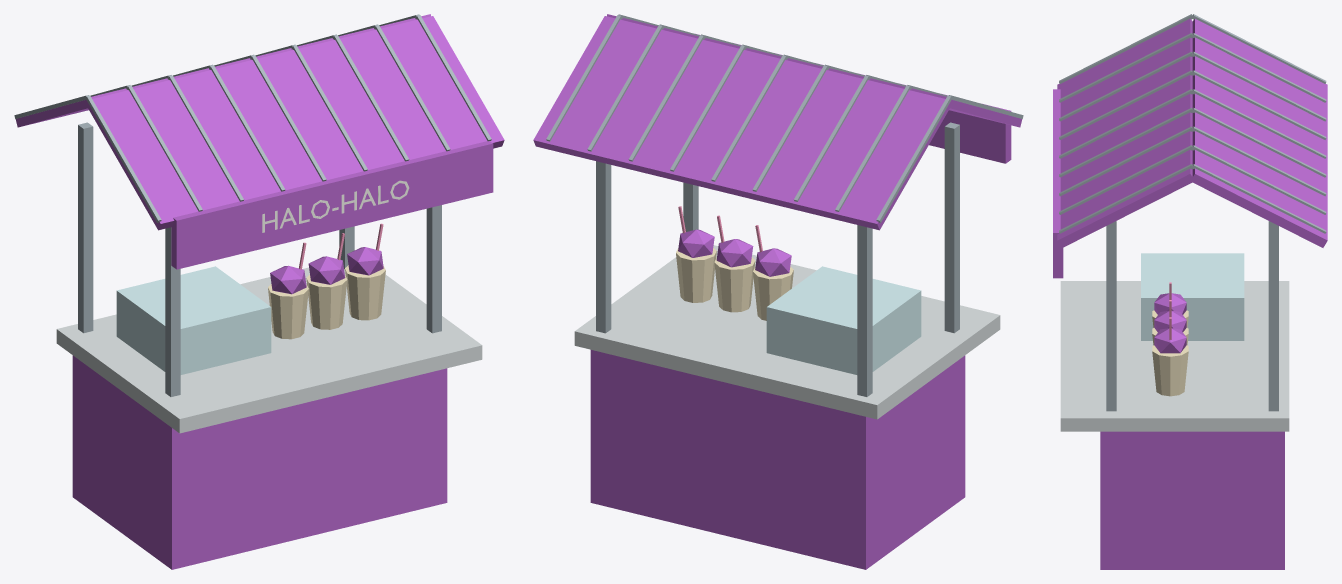
Rendered from TR_Kiosk_HALO_HALO.glb.
3 views of the same model, side by side, from view 1: azimuth 30°, elevation 25°; view 2: azimuth 150°, elevation 25°; view 3: azimuth 270°, elevation 25° (orthographic). The views are drawn at different scales.
Parts seen in each view (by area): view 1: TR_Kiosk_HALO_HALO; view 2: TR_Kiosk_HALO_HALO; view 3: TR_Kiosk_HALO_HALO.
Part boxes in pixels (x1,y1,x2,y2): TR_Kiosk_HALO_HALO: (14,14,504,569); TR_Kiosk_HALO_HALO: (533,14,1023,569); TR_Kiosk_HALO_HALO: (1053,14,1327,569).
Bounding box in the file's own units: 2.51 × 3.1 × 1.87.
